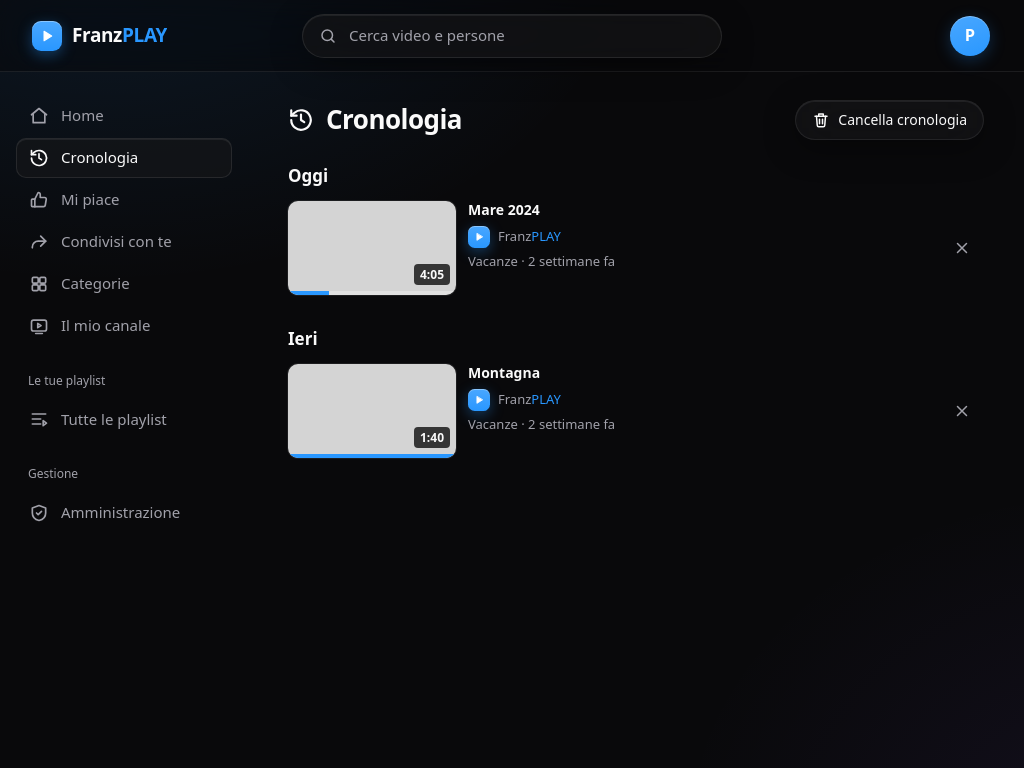
Scenario: history page › empties the history after asking once more
Click the button "Cancella cronologia".
click(890, 120)  # box [795,100,984,140]
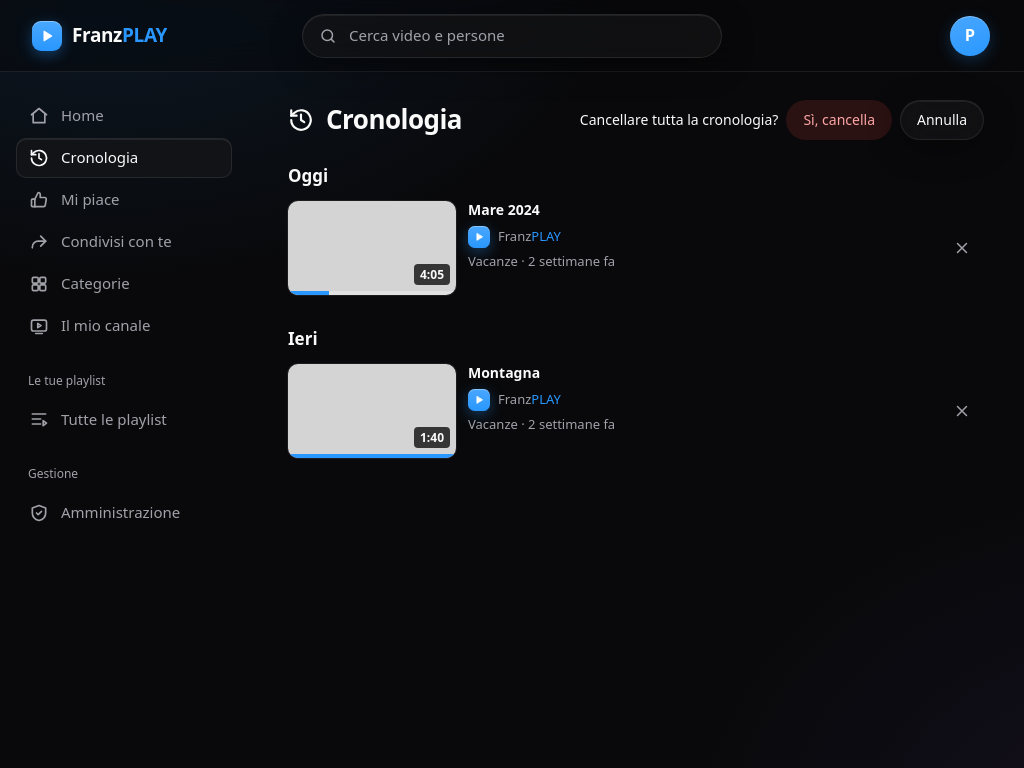
Click the button "Annulla".
click(942, 120)  # box [900,100,984,140]
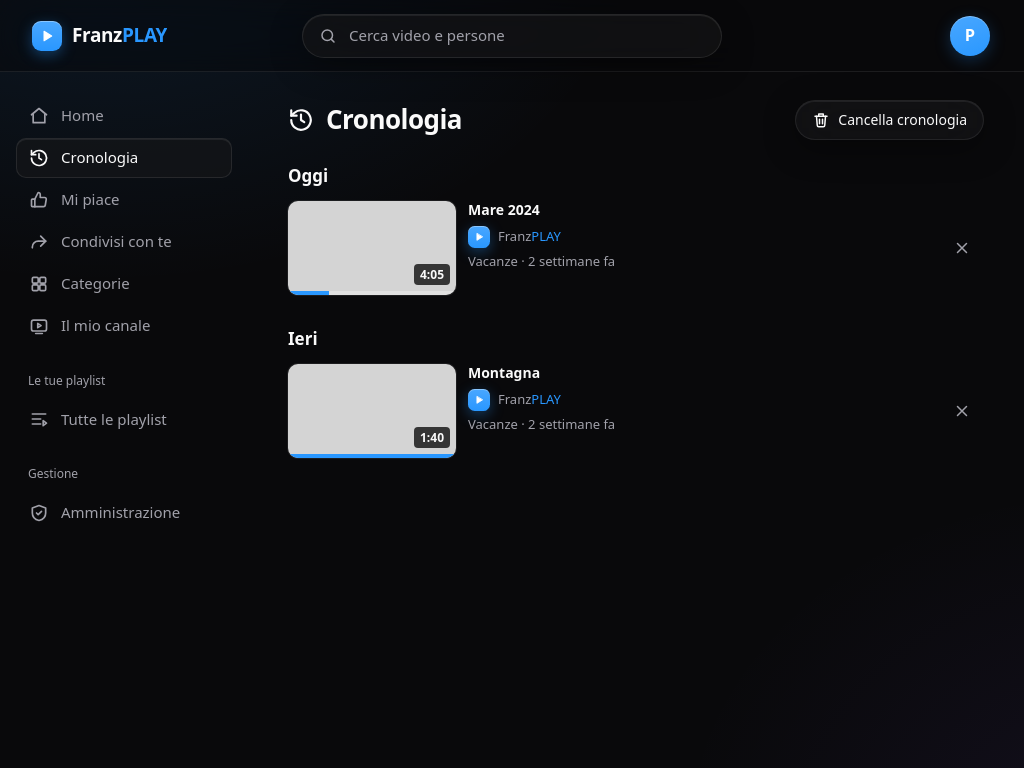
Click the button "Cancella cronologia".
click(890, 120)  # box [795,100,984,140]
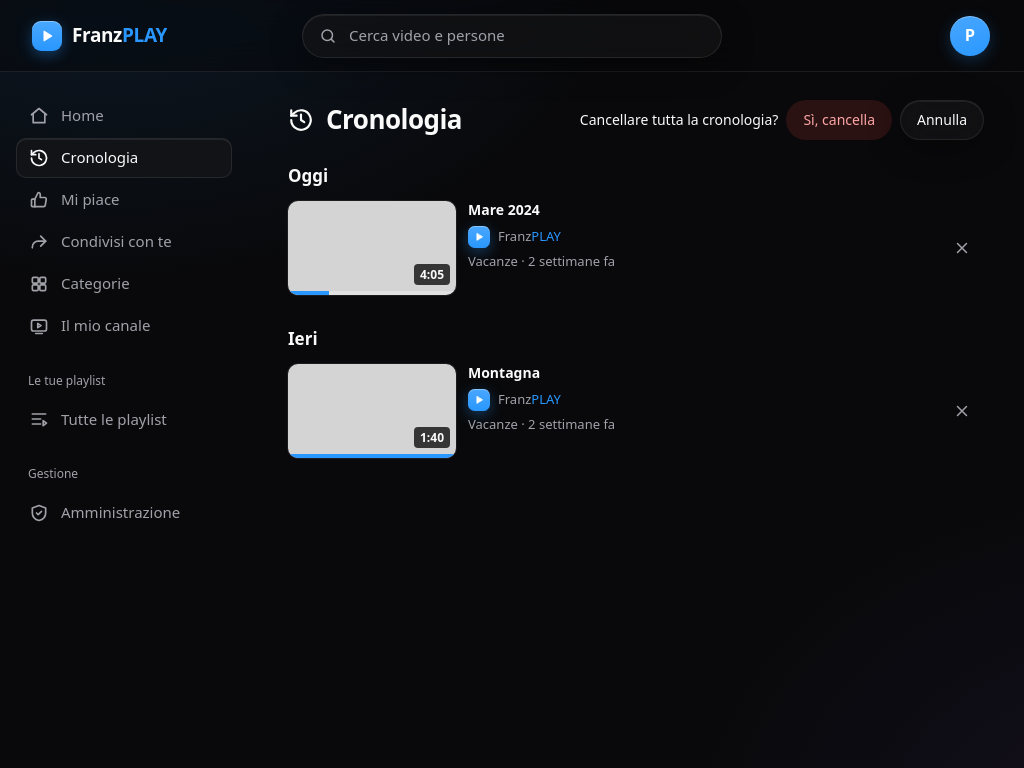
Click the button "Sì, cancella".
click(839, 120)  # box [786,100,892,140]
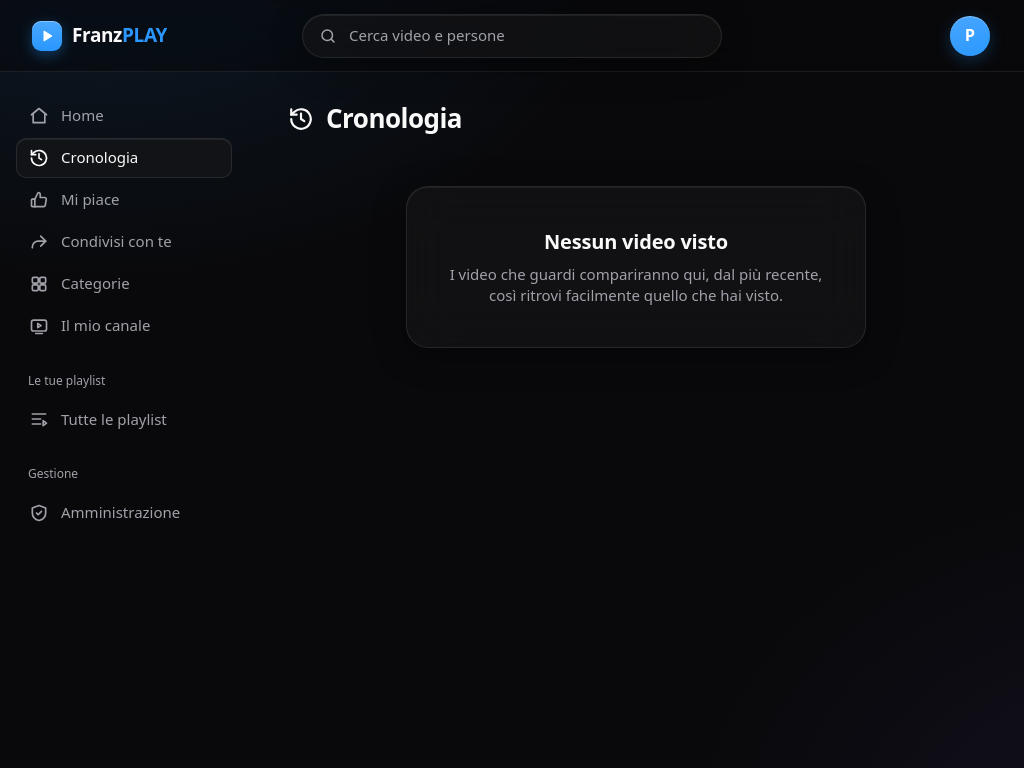
Result: the heading "Nessun video visto" is shown at [544,227,728,256]
